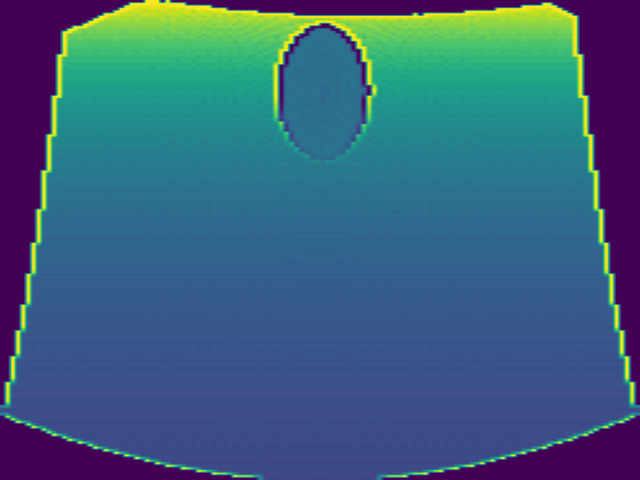sphere: (271, 24, 375, 162)
